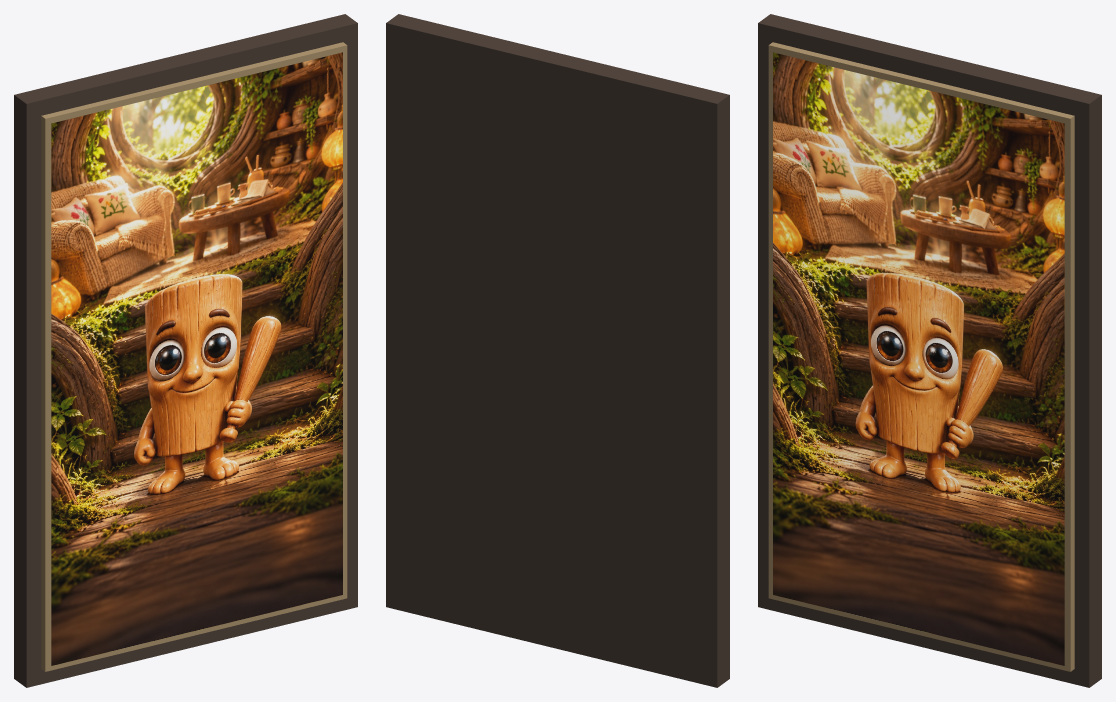
Rendered from painting_tung_tung_tung.glb.
3 views of the same model, side by side, from view 1: azimuth 30°, elevation 25°; view 2: azimuth 150°, elevation 25°; view 3: azimuth 330°, elevation 25° (orthographic).
Parts seen in each view (by area): view 1: Art, Solid joinery, Solid joinery.001; view 2: Solid joinery; view 3: Art, Solid joinery, Solid joinery.001.
Boxes of the visible parts, left/top/right/bottom form: Art: left=51, top=52, right=342, bottom=665; Solid joinery: left=14, top=14, right=357, bottom=687; Solid joinery.001: left=41, top=42, right=347, bottom=671; Solid joinery: left=386, top=14, right=729, bottom=687; Art: left=773, top=52, right=1064, bottom=665; Solid joinery: left=758, top=14, right=1101, bottom=687; Solid joinery.001: left=768, top=42, right=1074, bottom=671.
Size of the model in its own units: 0.4602 by 0.775 by 0.042.
Materials: 3 (1 with a texture image).
